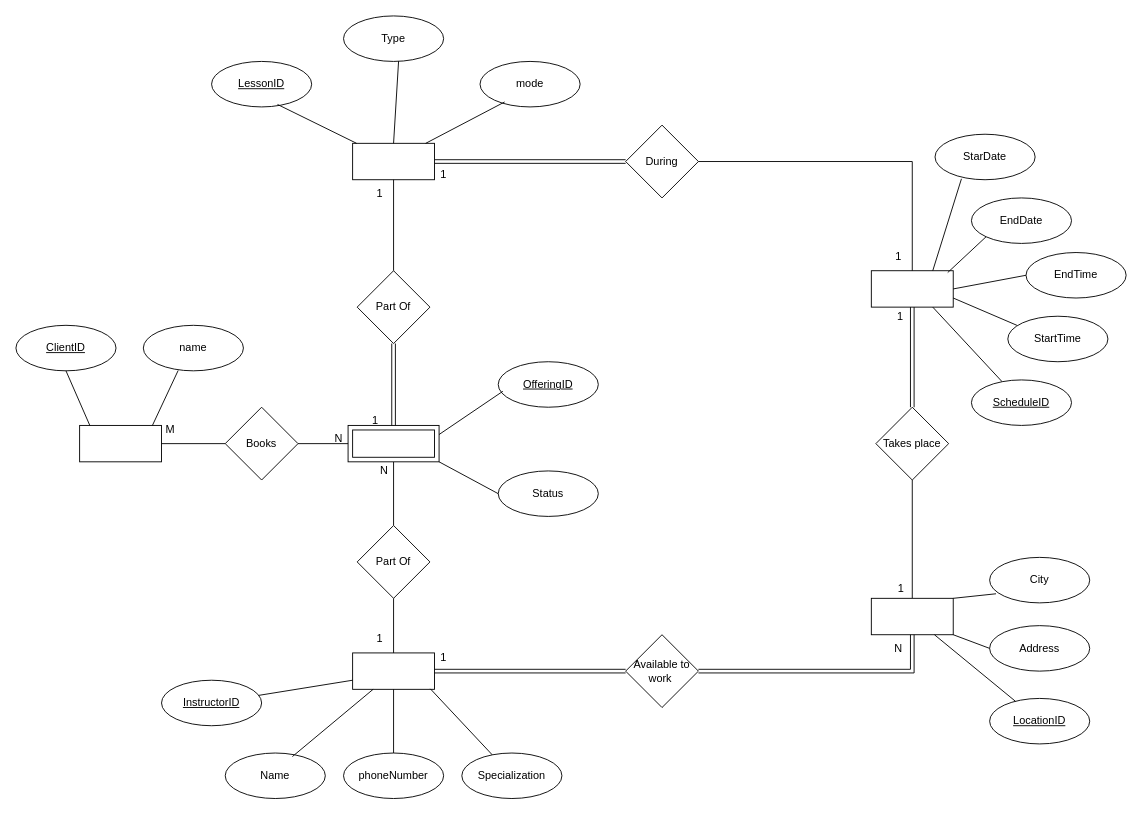
Some shapes in this 1142 by 814 pixel diagram are drawn without their labels. The centre of each missing label's shape, as x and y in pixels:
"Client" goes at (x=120, y=443).
"Instructor" goes at (x=393, y=670).
"Lesson" goes at (x=393, y=161).
"Location" goes at (x=911, y=616).
"Offering" goes at (x=393, y=443).
"Schedule" goes at (x=911, y=288).
